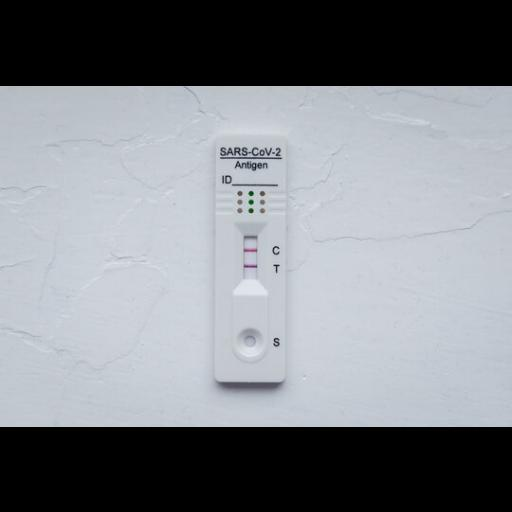Pos: (214, 133, 284, 381)
